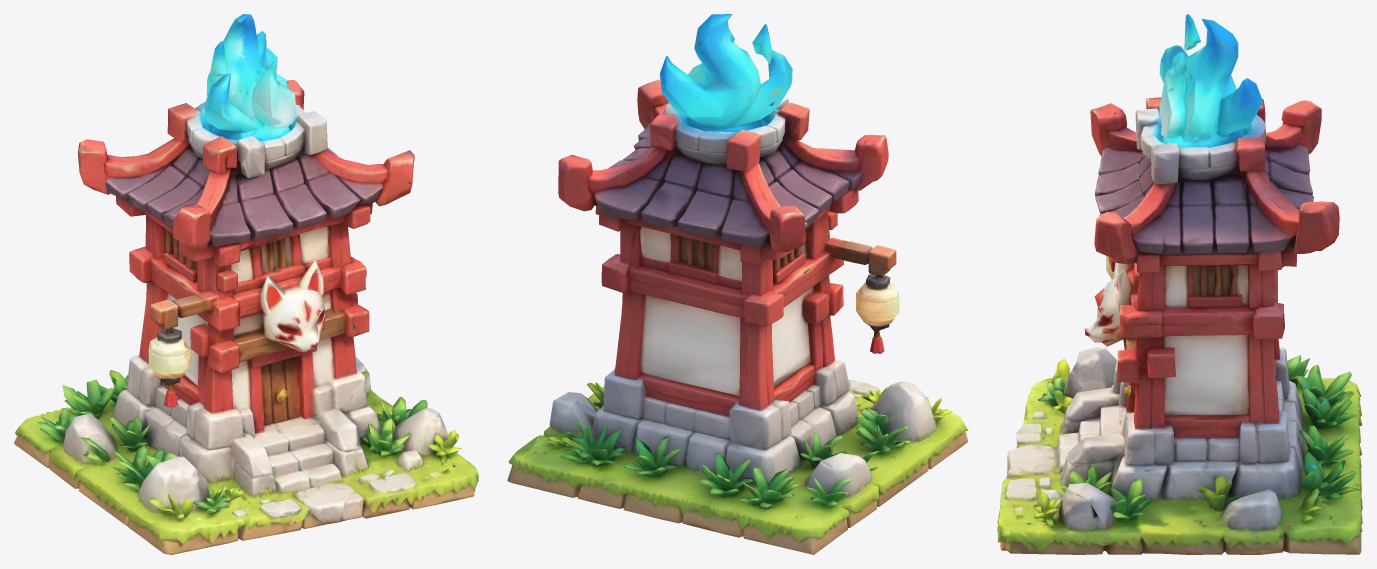
File: jp_tower.glb
3 renders of one model, left to right at view 1: azimuth 30°, elevation 25°; view 2: azimuth 150°, elevation 25°; view 3: azimuth 270°, elevation 25°, orthographic. The views are drawn at different scales.
Visible parts, largest first — view 1: model; view 2: model; view 3: model.
Boxes of the visible parts, left/top/right/bottom form: model: left=14, top=14, right=478, bottom=554; model: left=507, top=14, right=968, bottom=554; model: left=997, top=14, right=1362, bottom=554.
Size of the model in its own units: 1.38 by 1.88 by 1.35.
Materials: 1 (1 with a texture image).
